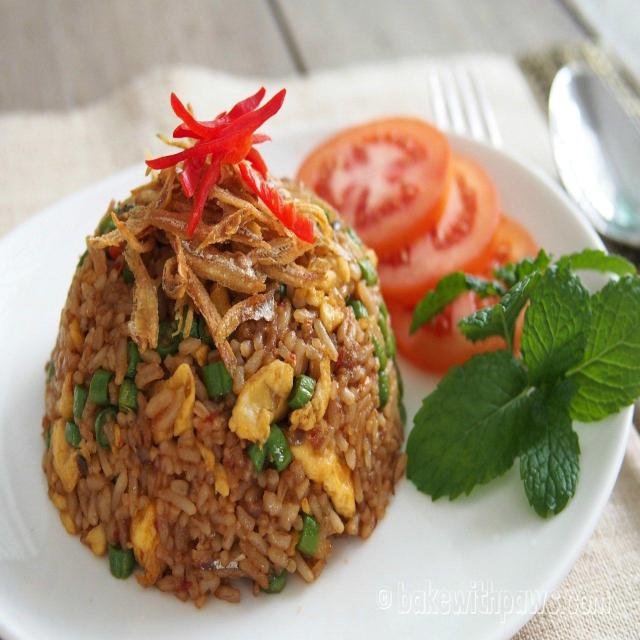Nasi Goreng: (41, 86, 408, 608)
